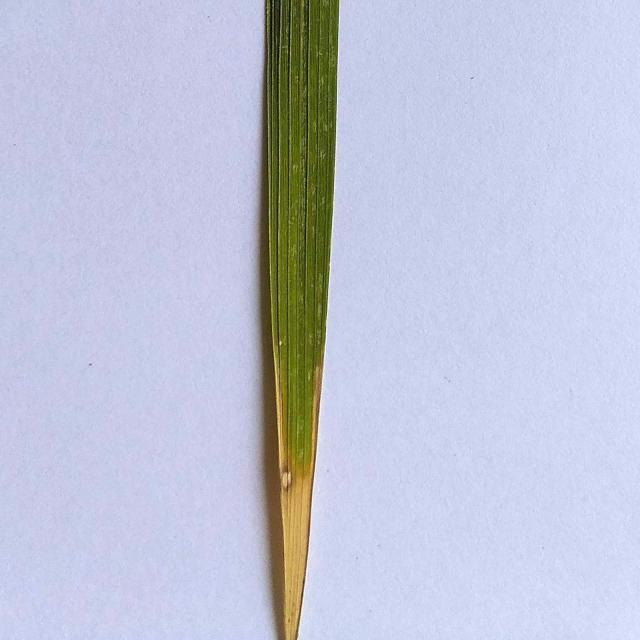Leaf_Blast: (266, 406, 314, 552)
